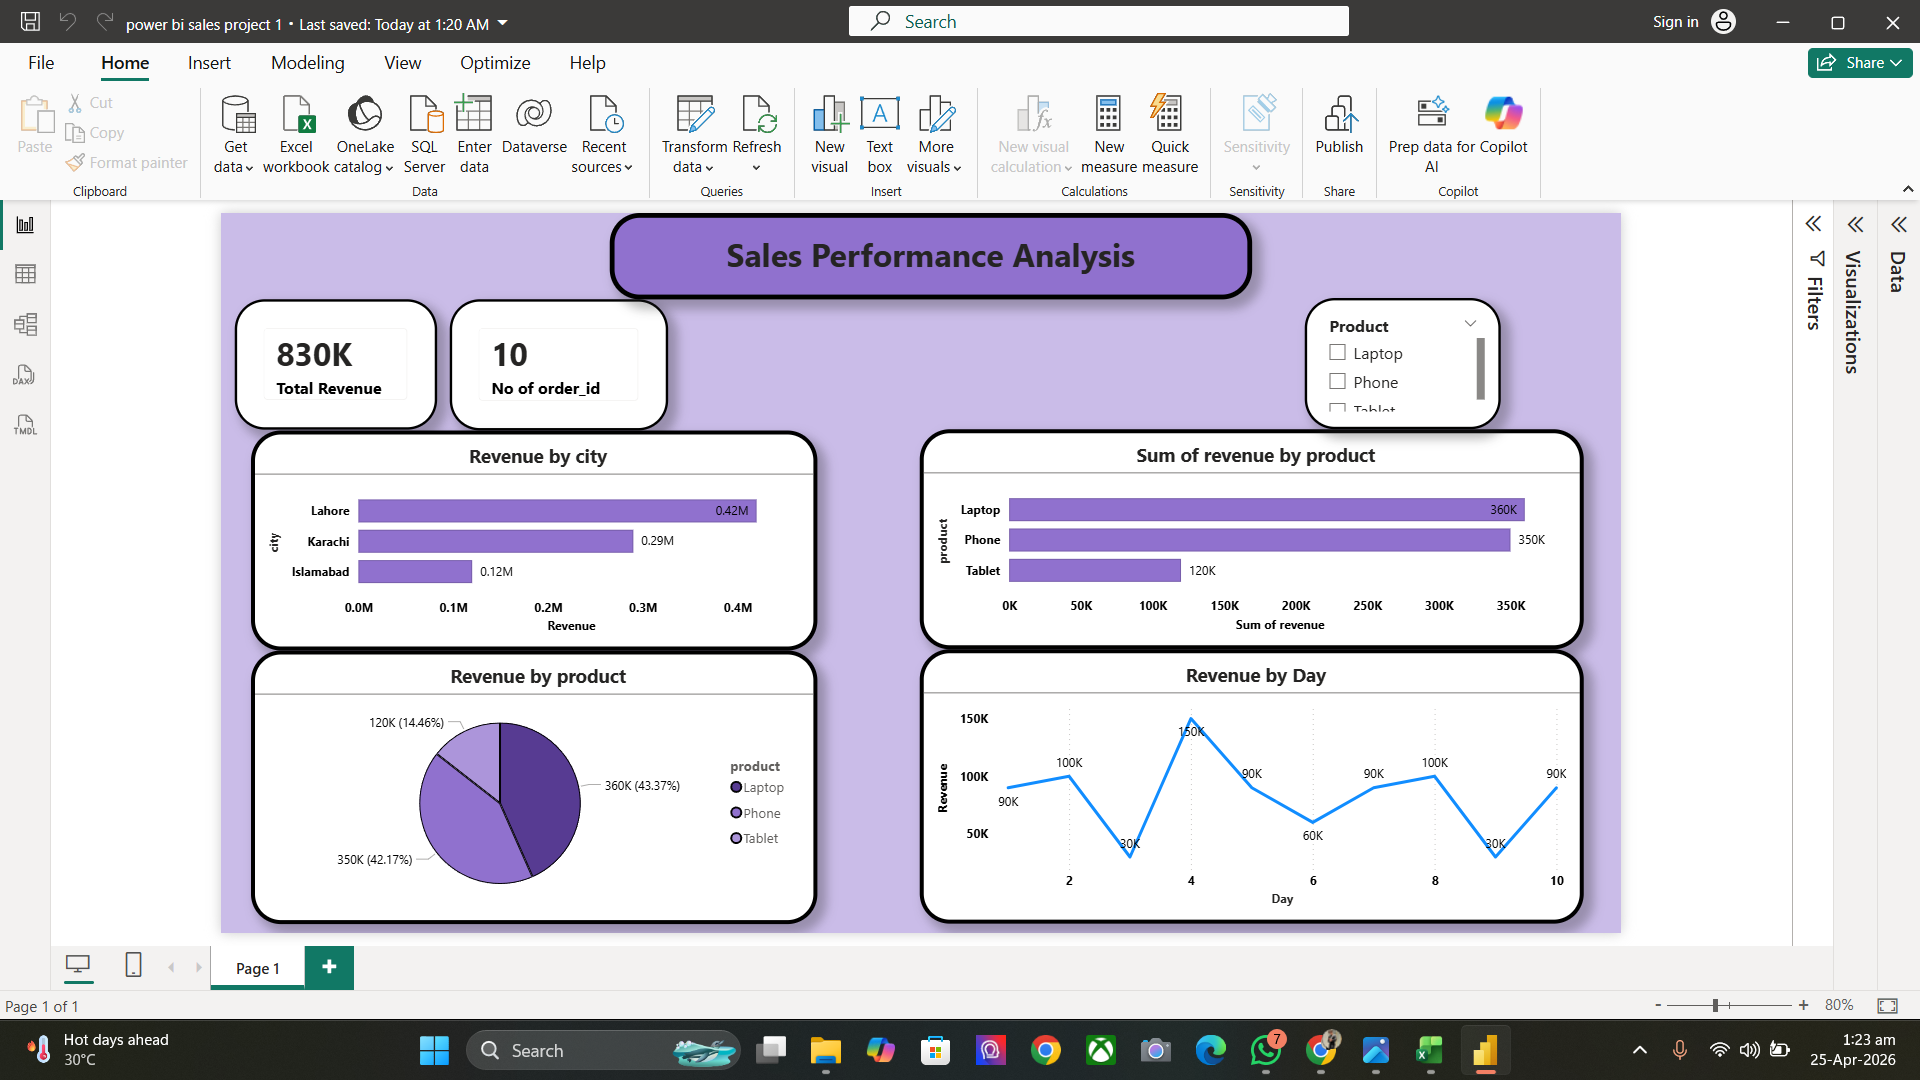

The dashboard page shown, as its layout file describes it:
{"tool":"powerbi","page":{"name":"Page 1","canvas":[1400,720],"ordinal":0},"visuals":[{"type":"cardVisual","fields":{"Data":["sales_project_day1.Total Revenue"]},"box":[13.8,86.2,202.5,130],"z":0},{"type":"cardVisual","fields":{"Data":["CountNonNull(sales_project_day1.order_id)"]},"box":[228.8,86.2,218.8,131.2],"z":1000},{"type":"barChart","fields":{"Category":["sales_project_day1.city"],"Y":["Sum(sales_project_day1.revenue)"]},"box":[30,217.5,566.2,220],"z":2000},{"type":"barChart","fields":{"Category":["sales_project_day1.product"],"Y":["Sum(sales_project_day1.revenue)"]},"box":[698.6,215.7,664.3,220],"z":3000},{"type":"lineChart","fields":{"Category":["sales_project_day1.date.Variation.Date Hierarchy.Day"],"Y":["Sum(sales_project_day1.revenue)"]},"box":[698.6,435.7,664.3,274.3],"z":4000},{"type":"textbox","box":[388.8,0,642.5,86.2],"z":5000},{"type":"pieChart","fields":{"Category":["sales_project_day1.product"],"Y":["Sum(sales_project_day1.revenue)"]},"box":[30,437.5,566.2,273.8],"z":6000},{"type":"slicer","fields":{"Values":["sales_project_day1.product"]},"box":[1083.8,85,196.2,131.2],"z":6001}]}

Visuals, with their boxes on the page's 1400x720 design canvas (x1, y1, x2, y2). These are canvas units, not pixel positions in the 1920x1080 screenshot, which may show the page scaled, cropped or inside an application window:
cardVisual - sales_project_day1.Total Revenue: <box>14,86,216,216</box>
cardVisual - CountNonNull(sales_project_day1.order_id): <box>229,86,448,217</box>
barChart - sales_project_day1.city x Sum(sales_project_day1.revenue): <box>30,218,596,438</box>
barChart - sales_project_day1.product x Sum(sales_project_day1.revenue): <box>699,216,1363,436</box>
lineChart - sales_project_day1.date.Variation.Date Hierarchy.Day x Sum(sales_project_day1.revenue): <box>699,436,1363,710</box>
textbox: <box>389,0,1031,86</box>
pieChart - sales_project_day1.product x Sum(sales_project_day1.revenue): <box>30,438,596,711</box>
slicer - sales_project_day1.product: <box>1084,85,1280,216</box>
